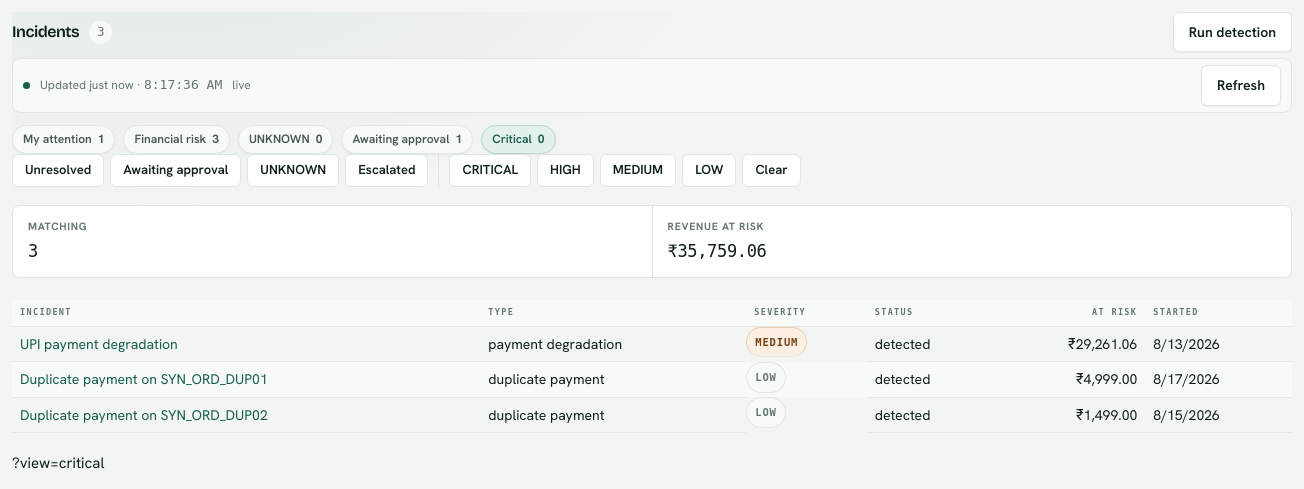
Test: filtering and saved views › a hand-set filter stops claiming to be a saved view
expect the table named "Open incidents" is shown: met, box [12,300,1292,433]
What coordinates should you click on to do the following:
click the button "Escalated"
I would click on:
 (387, 170)
Its box is [345,154,428,187].
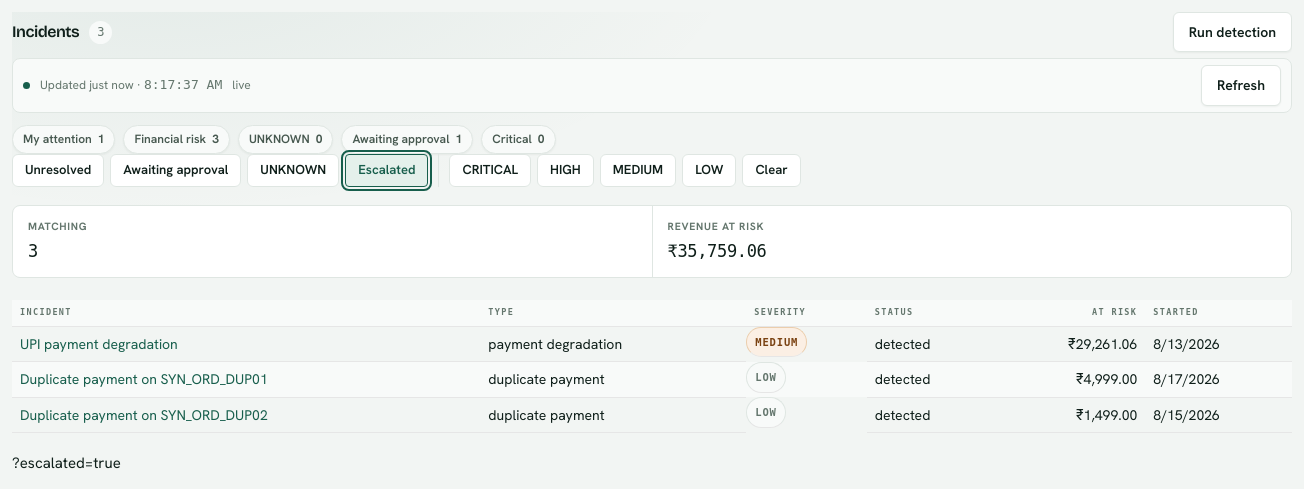
expect the text with test id "location" shows "escalated=true": met, box [12,453,121,473]
expect the text with test id "location" no longer shows "view=critical": met, box [12,453,121,473]
